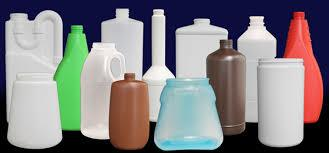Container for household chemicals: (96, 7, 324, 125), (154, 75, 232, 151), (72, 30, 123, 141), (5, 13, 67, 97), (255, 57, 313, 146), (202, 33, 245, 147), (9, 74, 63, 149), (105, 70, 151, 153)
